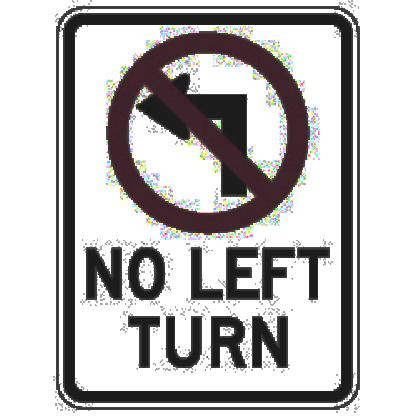No left turn: (96, 29, 316, 237)
